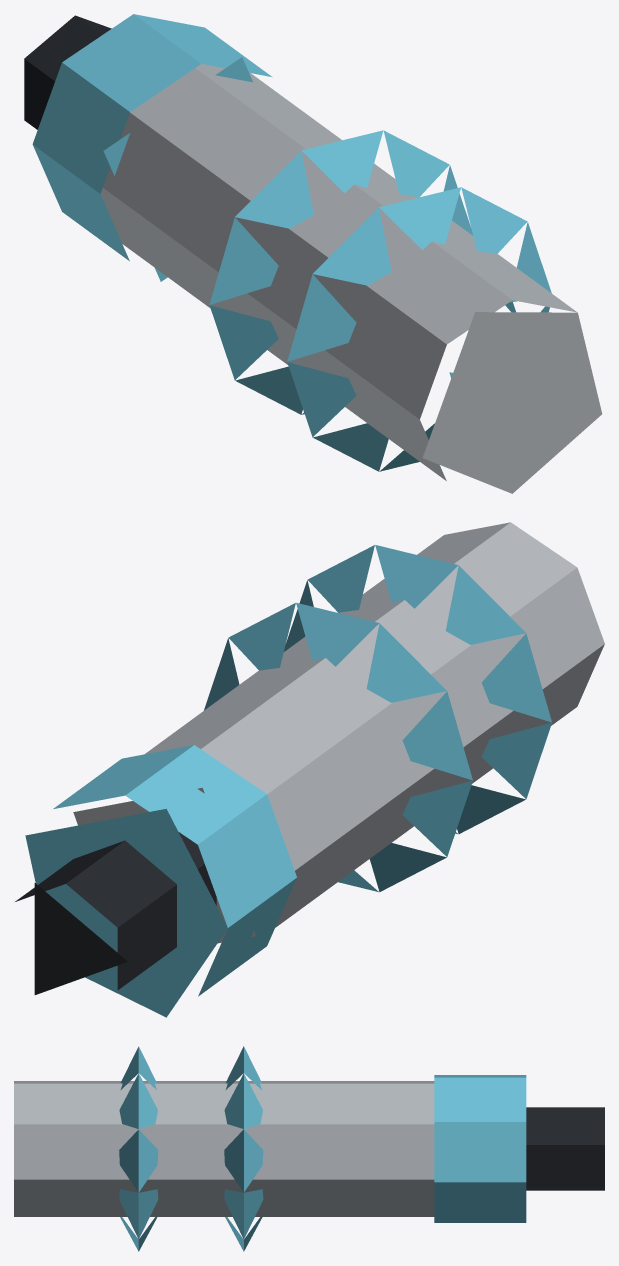
File: stim-wisdom.lod.glb
3 renders of one model, top to bottom at view 1: azimuth 30°, elevation 25°; view 2: azimuth 150°, elevation 25°; view 3: azimuth 270°, elevation 25°, orthographic. The views are drawn at different scales.
Parts seen in each view (by area): view 1: m; view 2: m; view 3: m.
Part boxes in pixels (bbox=[...]): m: bbox=[24, 14, 602, 493]; m: bbox=[15, 522, 604, 1017]; m: bbox=[14, 1046, 604, 1251].
Bounding box in the file's own units: 0.0235 × 0.0224 × 0.0669.
